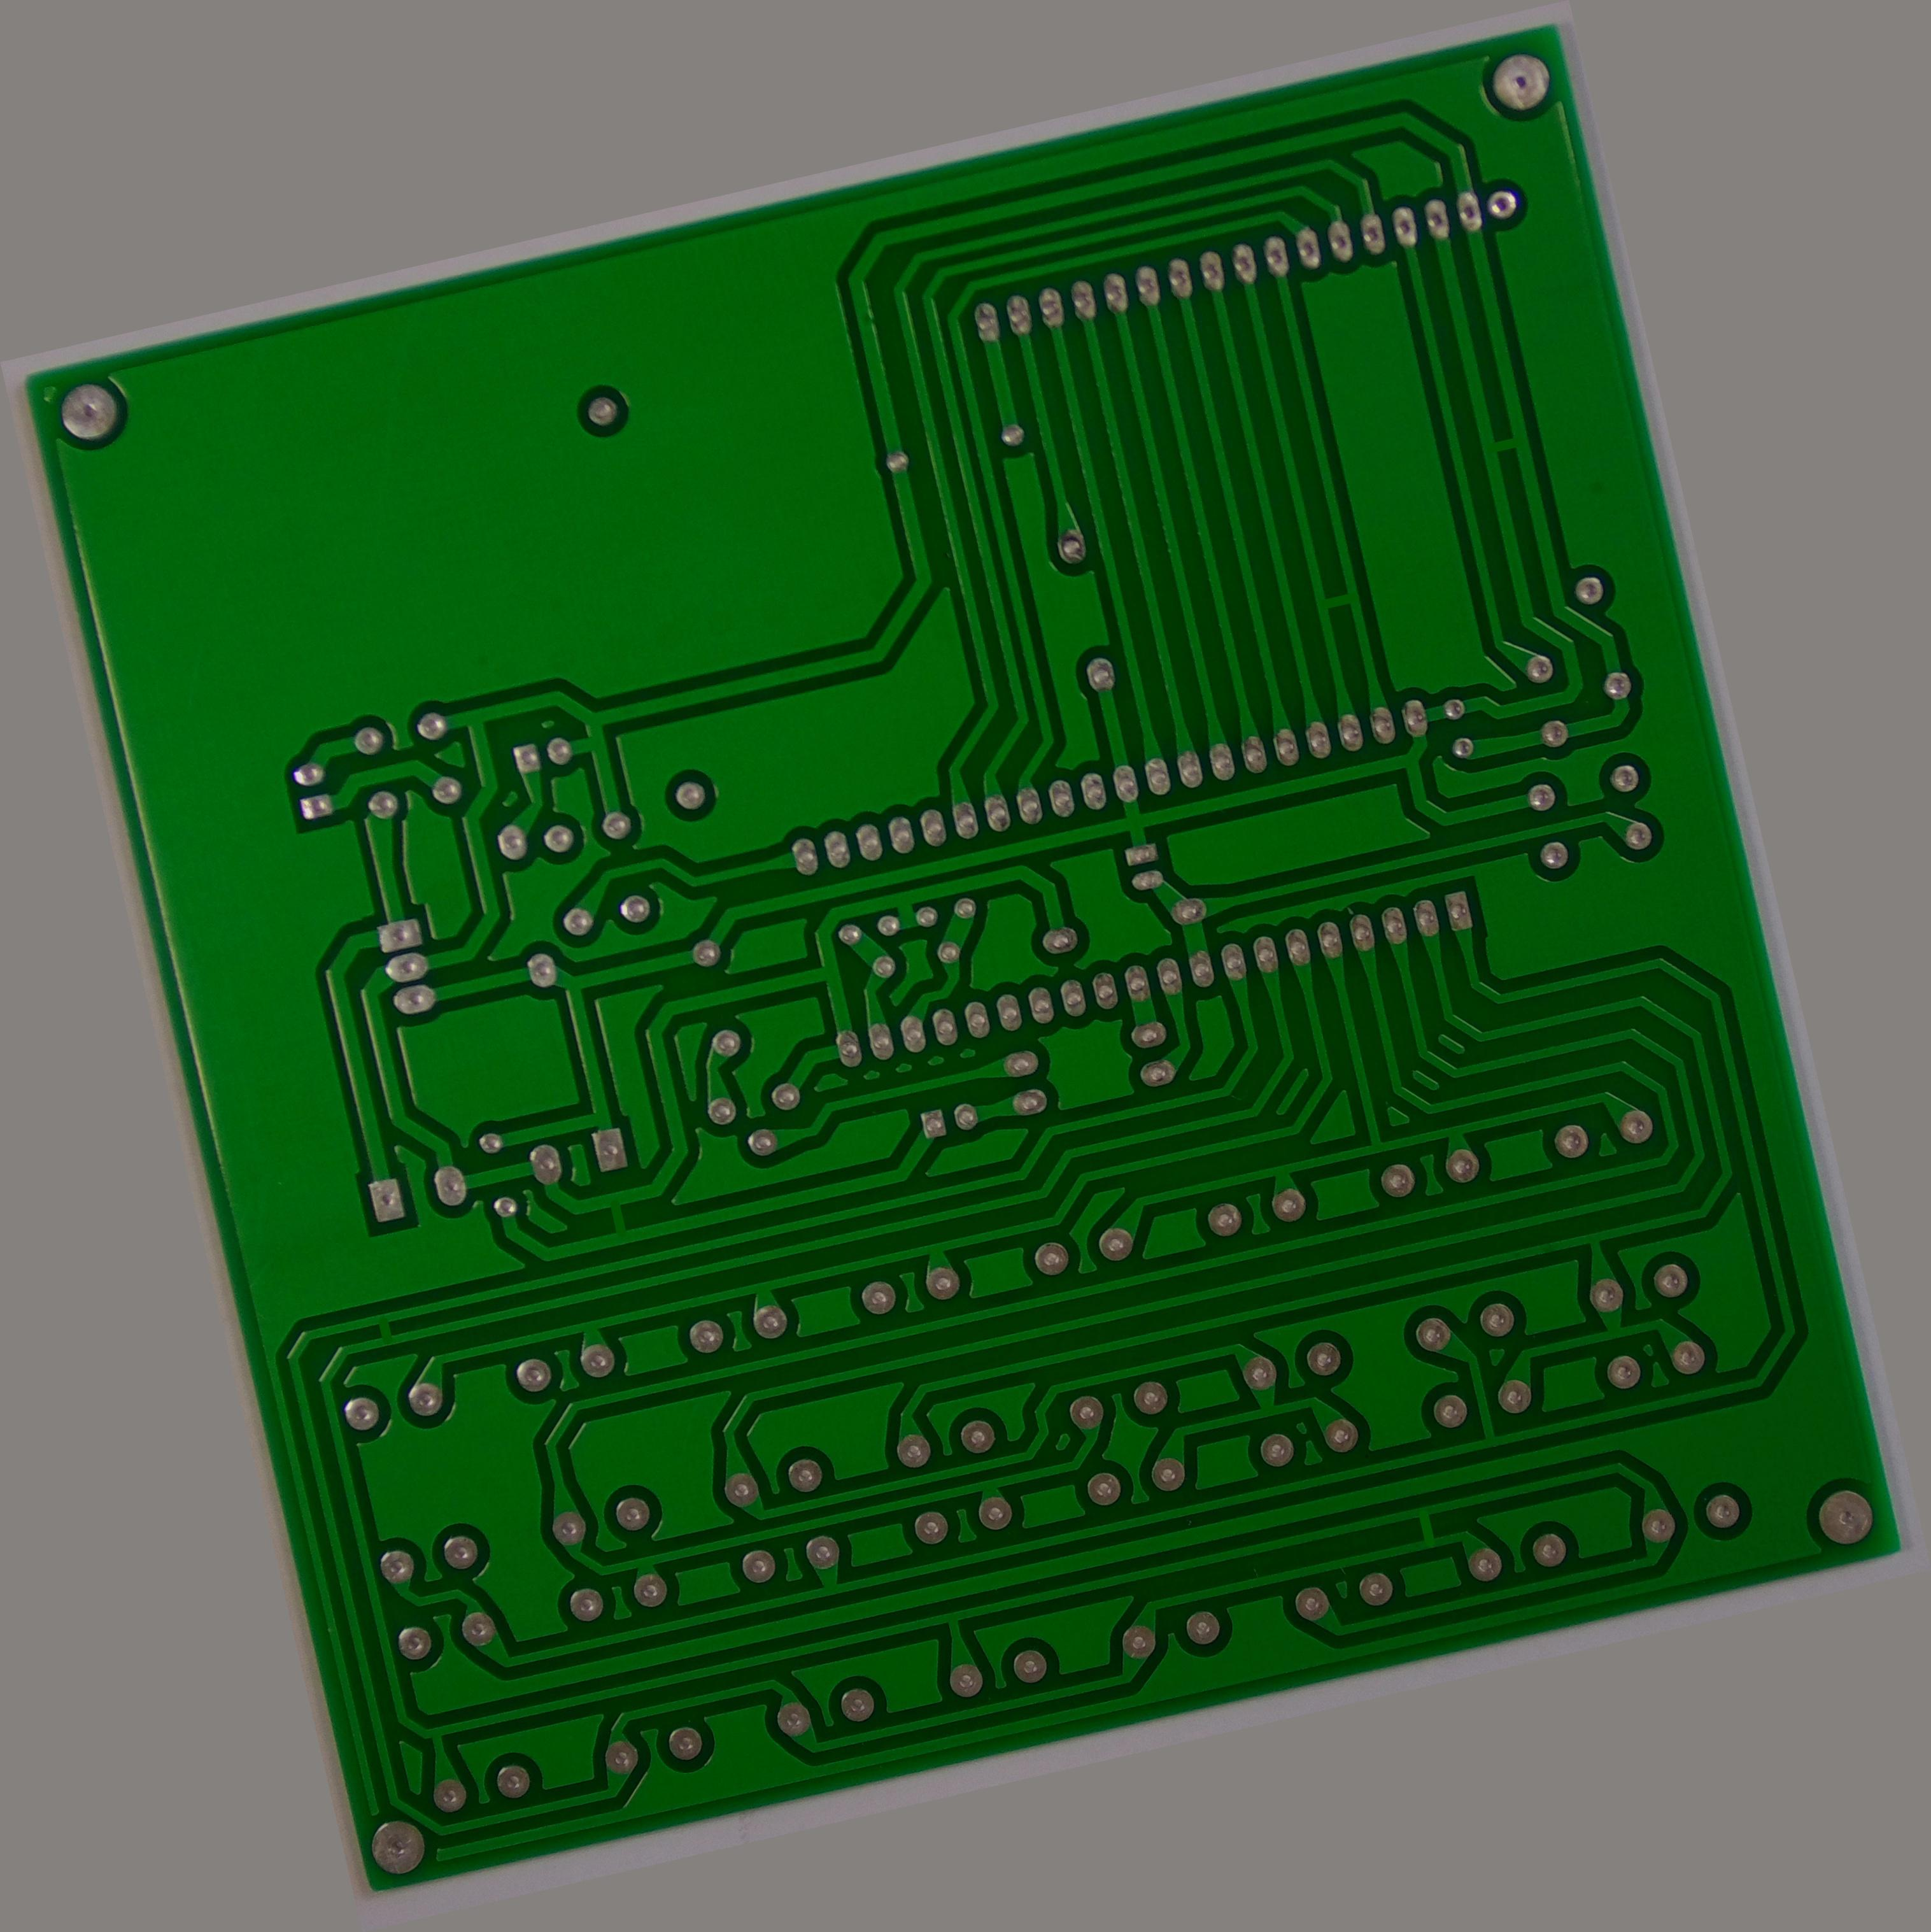short: (1393, 1491, 1455, 1559), (1305, 577, 1370, 630), (594, 1180, 638, 1251), (1471, 426, 1533, 472), (363, 1300, 405, 1355)
